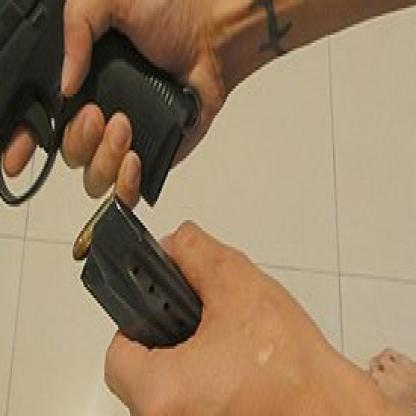gun: (0, 0, 201, 236)
